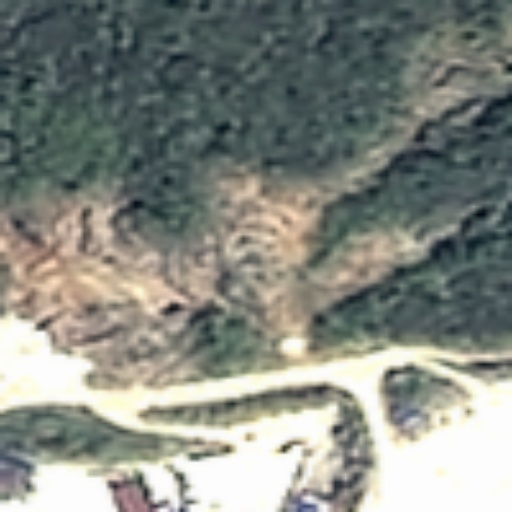landslide: (5, 158, 424, 342)
